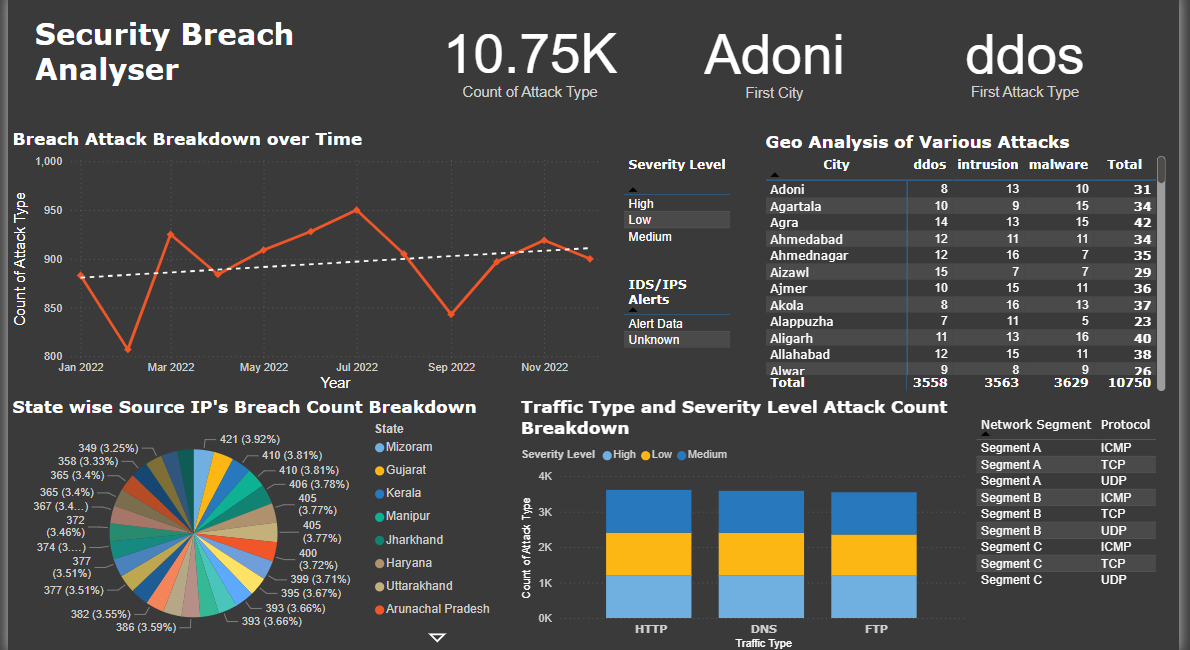

The page's visual inventory and layout, read from the dashboard file:
{"tool":"powerbi","page":{"name":"Dashboard ","canvas":[1280,720],"ordinal":0},"visuals":[{"type":"lineChart","title":"Breach Attack Breakdown over Time ","fields":{"Y":["CountNonNull(cleaned_cybersecurity_attacks.Attack Type)"],"Category":["cleaned_cybersecurity_attacks.Date.Variation.Date Hierarchy.Year","cleaned_cybersecurity_attacks.Date.Variation.Date Hierarchy.Month"]},"box":[0,146.3,666.5,292.7],"z":0},{"type":"pivotTable","title":"Geo Analysis of Various Attacks ","fields":{"Columns":["cleaned_cybersecurity_attacks.Attack Type"],"Values":["CountNonNull(cleaned_cybersecurity_attacks.Attack Type)"],"Rows":["cleaned_cybersecurity_attacks.City"]},"box":[822.3,149.5,447,289.5],"z":1000},{"type":"pieChart","title":"State wise Source IP''s Breach Count Breakdown","fields":{"Category":["cleaned_cybersecurity_attacks.State"],"Y":["CountNonNull(cleaned_cybersecurity_attacks.Source IP Address)"]},"box":[0,439,540.8,276.8],"z":2000},{"type":"columnChart","title":"Traffic Type and Severity Level Attack Count Breakdown","fields":{"Y":["CountNonNull(cleaned_cybersecurity_attacks.Attack Type)"],"Category":["cleaned_cybersecurity_attacks.Traffic Type"],"Series":["cleaned_cybersecurity_attacks.Severity Level"]},"box":[555.1,439,496.3,281.5],"z":3000},{"type":"card","fields":{"Values":["Min(cleaned_cybersecurity_attacks.Attack Type)"]},"box":[986.2,14.3,248.1,109.8],"z":4000},{"type":"tableEx","fields":{"Values":["cleaned_cybersecurity_attacks.Severity Level"]},"box":[666.5,171.8,136.8,119.3],"z":5000},{"type":"tableEx","fields":{"Values":["cleaned_cybersecurity_attacks.Network Segment","cleaned_cybersecurity_attacks.Protocol"]},"box":[1051.4,454.9,217.9,251.3],"z":6000},{"type":"textbox","box":[23.9,17.5,402.4,106.6],"z":7000},{"type":"card","fields":{"Values":["Min(cleaned_cybersecurity_attacks.City)"]},"box":[688.7,14.3,297.4,111.3],"z":8000},{"type":"card","fields":{"Values":["CountNonNull(cleaned_cybersecurity_attacks.Attack Type)"]},"box":[450.1,12.7,238.6,111.3],"z":9000},{"type":"tableEx","fields":{"Values":["cleaned_cybersecurity_attacks.IDS/IPS Alerts"]},"box":[666.5,303.8,136.8,124.1],"z":10000}]}

Visuals, with their boxes in screenshot pixels (x1, y1, x2, y2), scaled from the page's 1280x720 canvas onto the 1190x650 screenshot:
"Breach Attack Breakdown over Time " lineChart: [x1=0, y1=132, x2=620, y2=396]
"Geo Analysis of Various Attacks " pivotTable: [x1=764, y1=135, x2=1180, y2=396]
"State wise Source IP''s Breach Count Breakdown" pieChart: [x1=0, y1=396, x2=503, y2=646]
"Traffic Type and Severity Level Attack Count Breakdown" columnChart: [x1=516, y1=396, x2=977, y2=649]
card - Min(cleaned_cybersecurity_attacks.Attack Type): [x1=917, y1=13, x2=1148, y2=112]
tableEx - cleaned_cybersecurity_attacks.Severity Level: [x1=620, y1=155, x2=747, y2=263]
tableEx - cleaned_cybersecurity_attacks.Network Segment x cleaned_cybersecurity_attacks.Protocol: [x1=977, y1=411, x2=1180, y2=638]
textbox: [x1=22, y1=16, x2=396, y2=112]
card - Min(cleaned_cybersecurity_attacks.City): [x1=640, y1=13, x2=917, y2=113]
card - CountNonNull(cleaned_cybersecurity_attacks.Attack Type): [x1=418, y1=11, x2=640, y2=112]
tableEx - cleaned_cybersecurity_attacks.IDS/IPS Alerts: [x1=620, y1=274, x2=747, y2=386]
